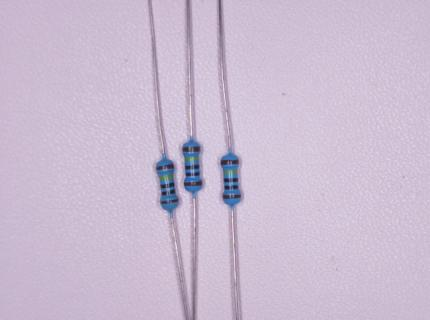Black band: (161, 183, 174, 189), (162, 190, 175, 196), (185, 165, 199, 169), (186, 172, 199, 176), (225, 178, 238, 182), (225, 186, 238, 189)
Brown band: (156, 164, 174, 170), (221, 160, 239, 165), (161, 199, 178, 204), (185, 181, 202, 186), (183, 147, 200, 152), (223, 195, 241, 199)
Yellow band: (159, 175, 174, 181), (185, 157, 198, 162), (224, 171, 237, 174)
